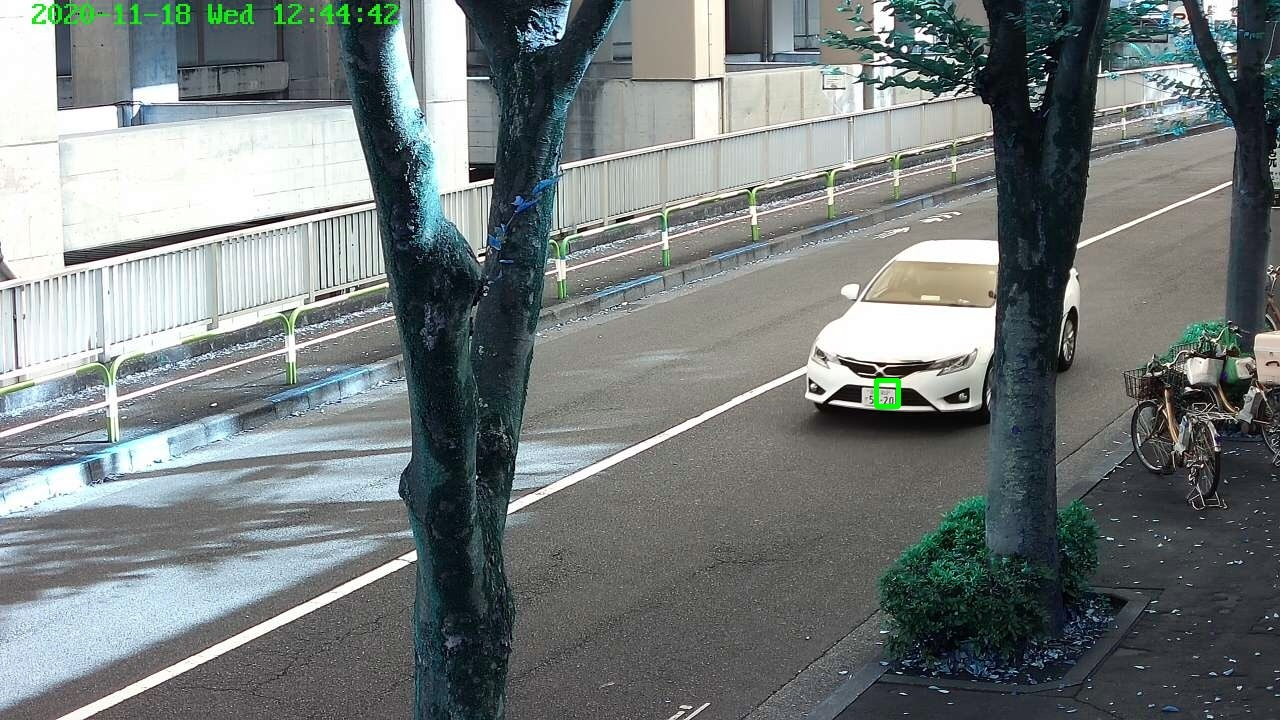number_plate: (861, 383, 896, 409)
